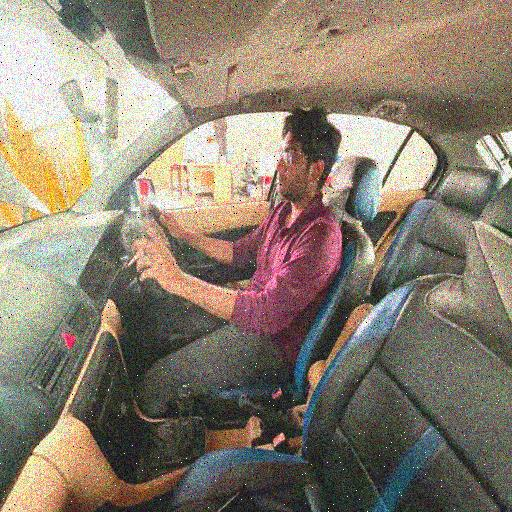Reaching_behind: (135, 104, 345, 383)
